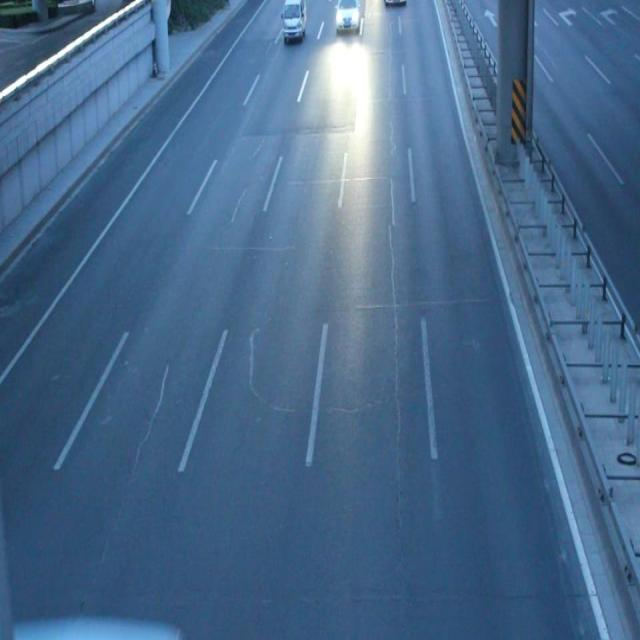car: (281, 1, 307, 39), (336, 1, 359, 33)
